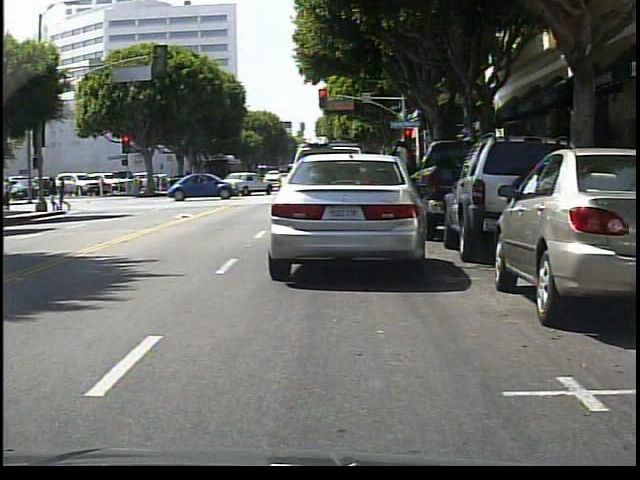person: (50, 178, 73, 214), (4, 178, 18, 212)
